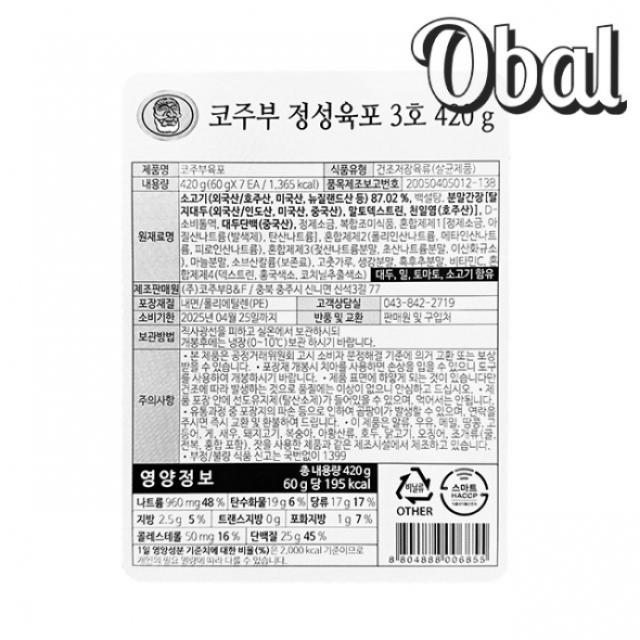Nutrition Label: (128, 461, 391, 575)
